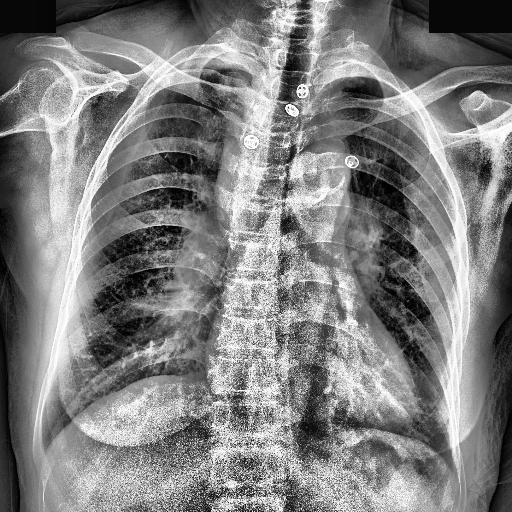0- Aortic enlargement: (292, 140, 352, 214), (286, 143, 352, 201)
11- Pleural thickening: (180, 46, 256, 75), (177, 53, 243, 74), (176, 54, 240, 72)
2- Calcification: (304, 171, 346, 206)
3- Cardiomegaly: (198, 315, 421, 432), (205, 329, 423, 445), (202, 337, 418, 429)
